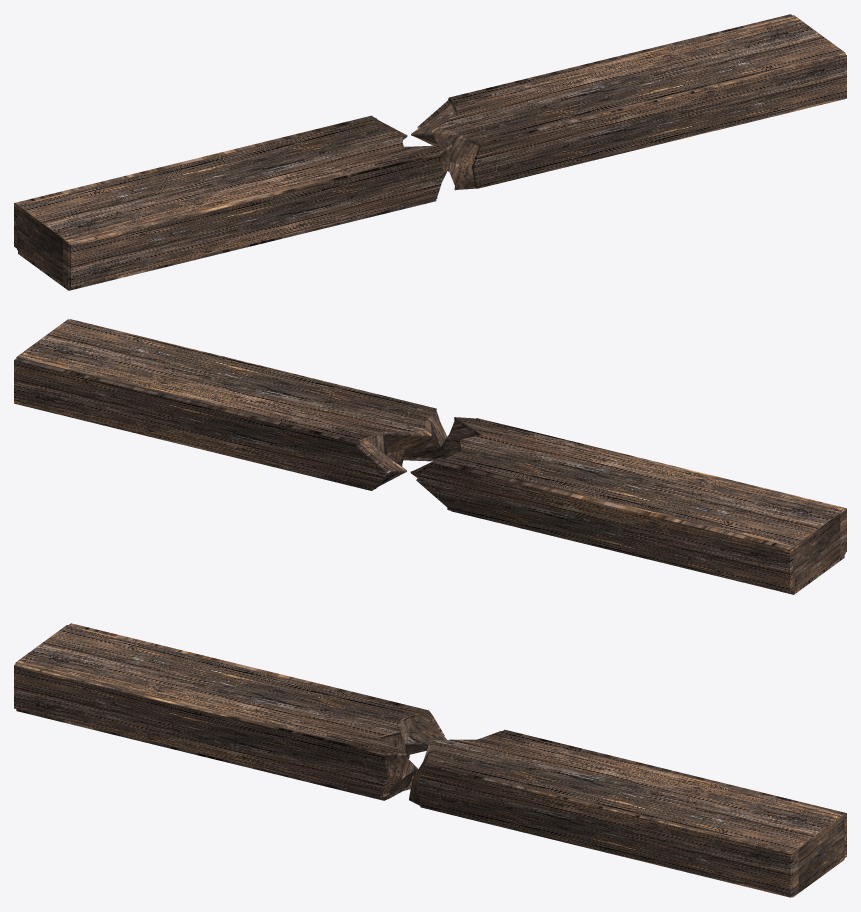
Rendered from MYNAMEISMAYA.fbx.
3 views of the same model, one above another, from view 1: azimuth 30°, elevation 25°; view 2: azimuth 150°, elevation 25°; view 3: azimuth 330°, elevation 25° (orthographic).
Visible parts, largest first — view 1: pCube24, pCube23; view 2: pCube24, pCube23; view 3: pCube24, pCube23.
Boxes of the visible parts, x1,y1,x2,y2 form: pCube24: (14,115,452,290); pCube23: (411,14,846,190); pCube24: (410,417,846,594); pCube23: (14,319,448,490); pCube24: (14,623,446,800); pCube23: (409,729,846,897).
Bounding box in the file's own units: 45.4 × 2.75 × 5.77.
Materials: 1 (1 with a texture image).
